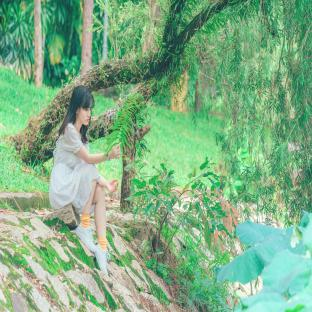Human: (49, 85, 121, 275)
